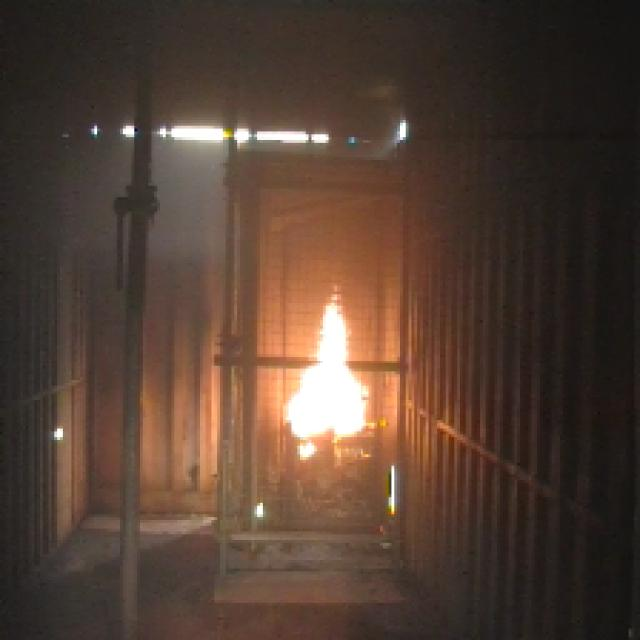fire: (292, 292, 374, 445)
